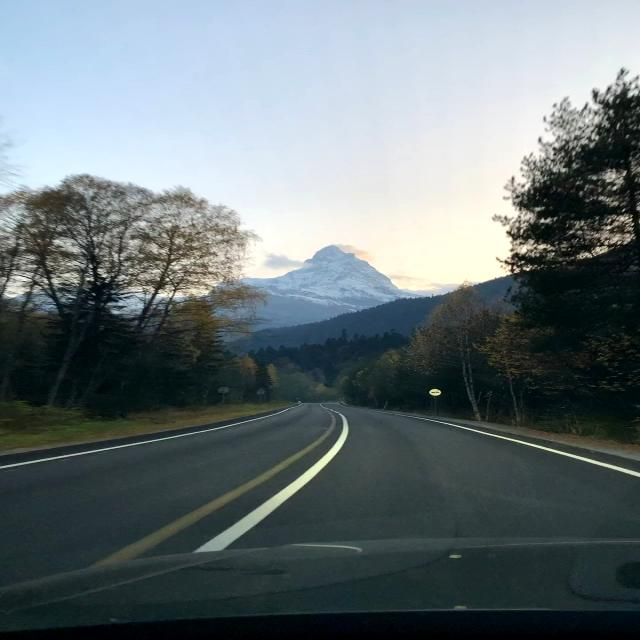lane: (193, 444, 343, 553), (499, 438, 640, 476)
road: (3, 404, 637, 640)
